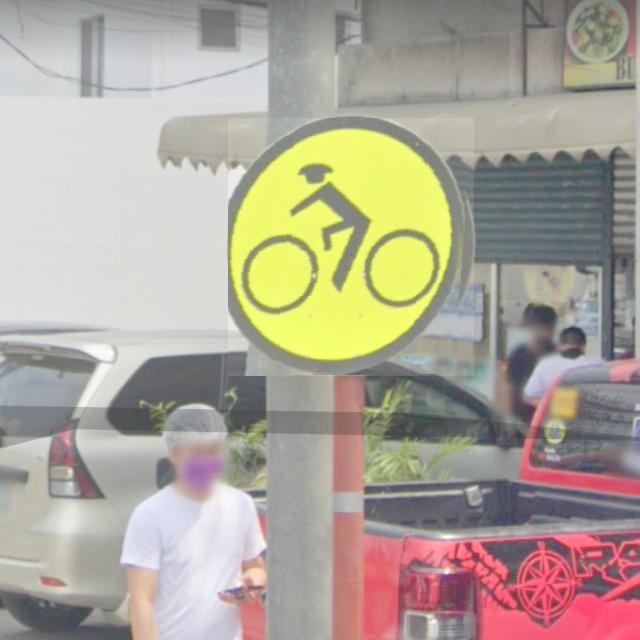bike lane: (228, 118, 474, 376)
